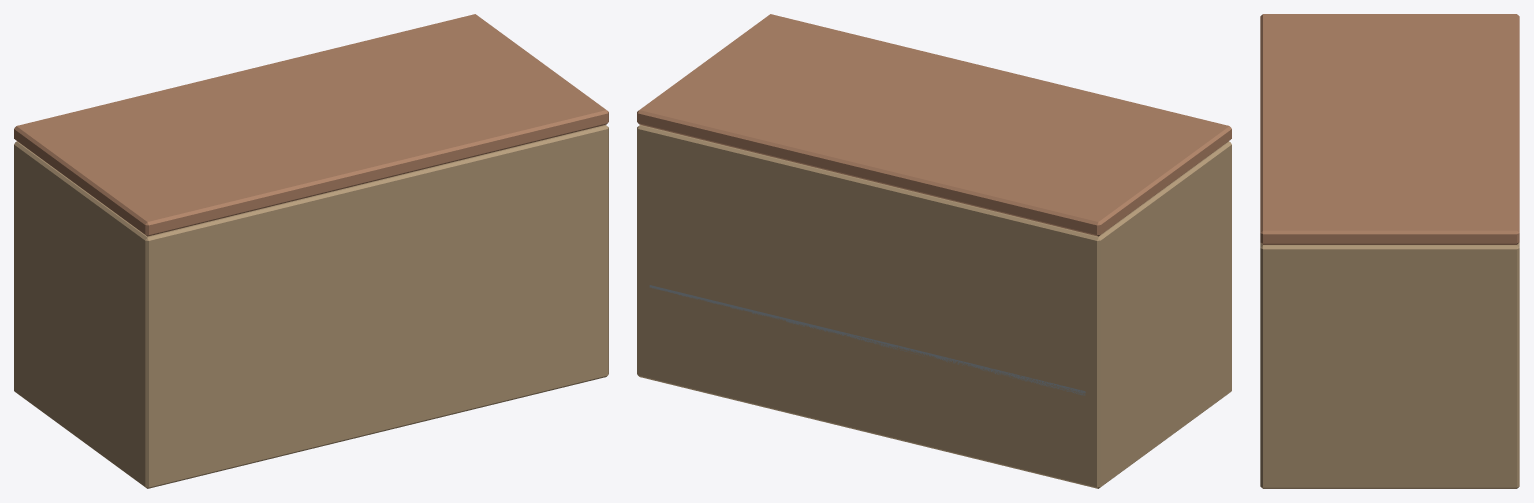
Rendered from counter.glb.
3 renders of one model, left to right at view 1: azimuth 30°, elevation 25°; view 2: azimuth 150°, elevation 25°; view 3: azimuth 270°, elevation 25°, orthographic. The views are drawn at different scales.
Parts seen in each view (by area): view 1: counter; view 2: counter; view 3: counter.
Part boxes in pixels (left/top/right/bottom): counter: left=14, top=14, right=608, bottom=488; counter: left=637, top=14, right=1231, bottom=488; counter: left=1260, top=14, right=1519, bottom=488.
Size of the model in its own units: 2 by 1.1 by 1.
